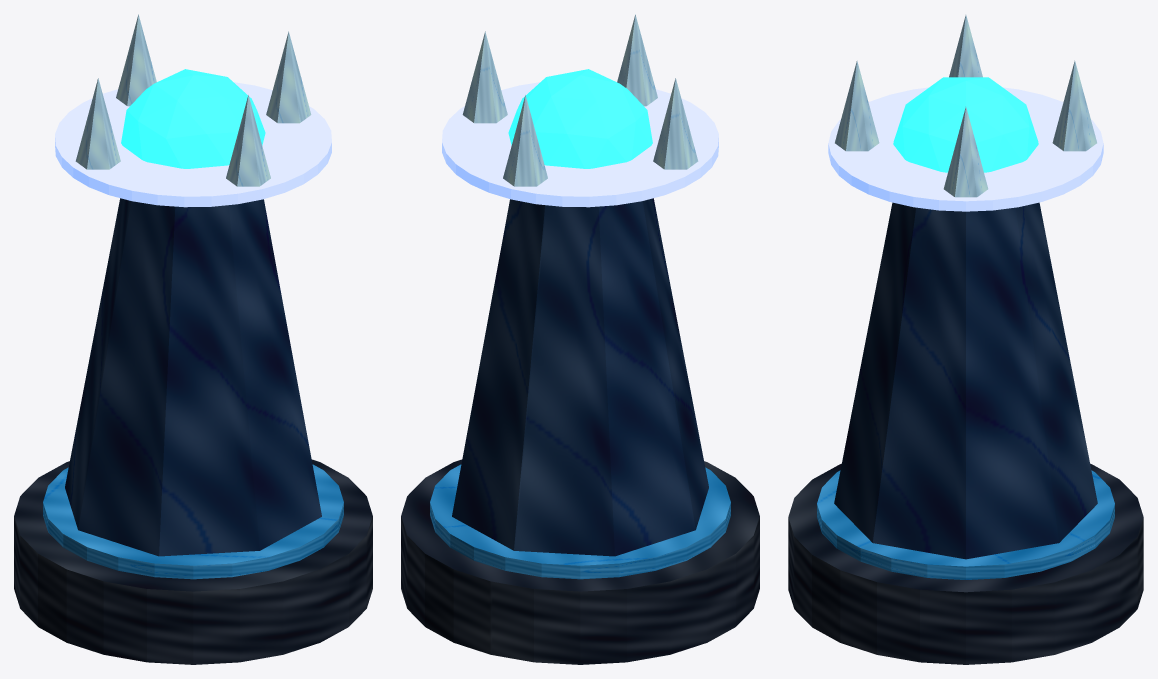
The model's file is 07_AbsoluteZeroSpire.glb.
The picture shows the model from 3 angles, left to right: view 1: azimuth 30°, elevation 25°; view 2: azimuth 150°, elevation 25°; view 3: azimuth 270°, elevation 25°; orthographic projection.
Parts seen in each view (by area): view 1: Stand_ZeroSpire, Stand_Base.006, Head_EnergyHalo, Head_ZeroCore, Stand_IceRing.006, Head_CrownCrystal, Head_CrownCrystal.002, Head_CrownCrystal.003, Head_CrownCrystal.001; view 2: Stand_ZeroSpire, Stand_Base.006, Head_EnergyHalo, Head_ZeroCore, Stand_IceRing.006, Head_CrownCrystal, Head_CrownCrystal.001, Head_CrownCrystal.002, Head_CrownCrystal.003; view 3: Stand_ZeroSpire, Stand_Base.006, Head_EnergyHalo, Head_ZeroCore, Stand_IceRing.006, Head_CrownCrystal.001, Head_CrownCrystal.003, Head_CrownCrystal, Head_CrownCrystal.002.
Boxes of the visible parts, x1,y1,x2,y2 form: Stand_ZeroSpire: (65, 198, 321, 556); Stand_Base.006: (14, 459, 372, 664); Head_EnergyHalo: (55, 81, 331, 207); Head_ZeroCore: (121, 69, 265, 168); Stand_IceRing.006: (43, 464, 343, 579); Head_CrownCrystal: (266, 31, 311, 123); Head_CrownCrystal.002: (75, 78, 120, 169); Head_CrownCrystal.003: (226, 95, 270, 186); Head_CrownCrystal.001: (116, 14, 156, 106); Stand_ZeroSpire: (452, 198, 708, 556); Stand_Base.006: (401, 459, 759, 664); Head_EnergyHalo: (442, 81, 718, 207); Head_ZeroCore: (508, 69, 652, 168); Stand_IceRing.006: (430, 464, 730, 579); Head_CrownCrystal: (462, 31, 507, 123); Head_CrownCrystal.001: (503, 95, 547, 186); Head_CrownCrystal.002: (653, 78, 698, 169); Head_CrownCrystal.003: (617, 14, 657, 106); Stand_ZeroSpire: (834, 202, 1097, 559); Stand_Base.006: (788, 463, 1143, 664); Head_EnergyHalo: (828, 87, 1103, 211); Head_ZeroCore: (893, 77, 1038, 172); Stand_IceRing.006: (817, 470, 1114, 579); Head_CrownCrystal.001: (1052, 60, 1096, 151); Head_CrownCrystal.003: (835, 60, 879, 151); Head_CrownCrystal: (943, 107, 988, 197); Head_CrownCrystal.002: (949, 15, 982, 77).
Bounding box in the file's own units: 3.1 × 5.1 × 3.1.
6 materials, 4 textured.
